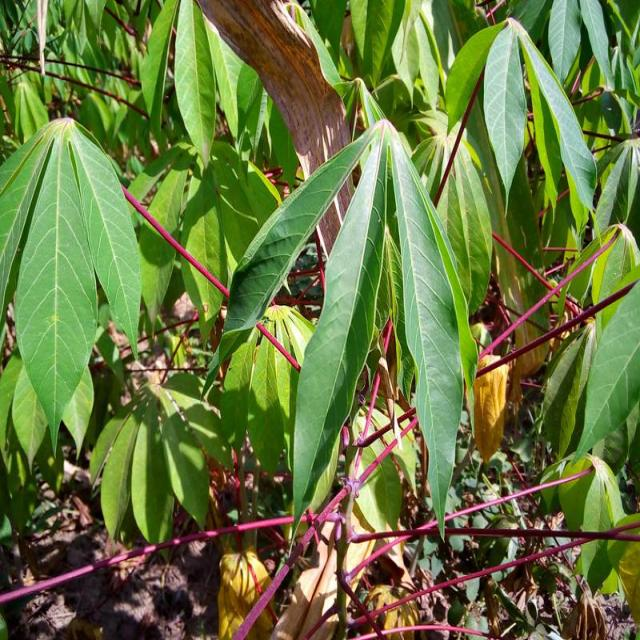cassava leaf: (288, 115, 476, 543), (0, 115, 142, 458)
